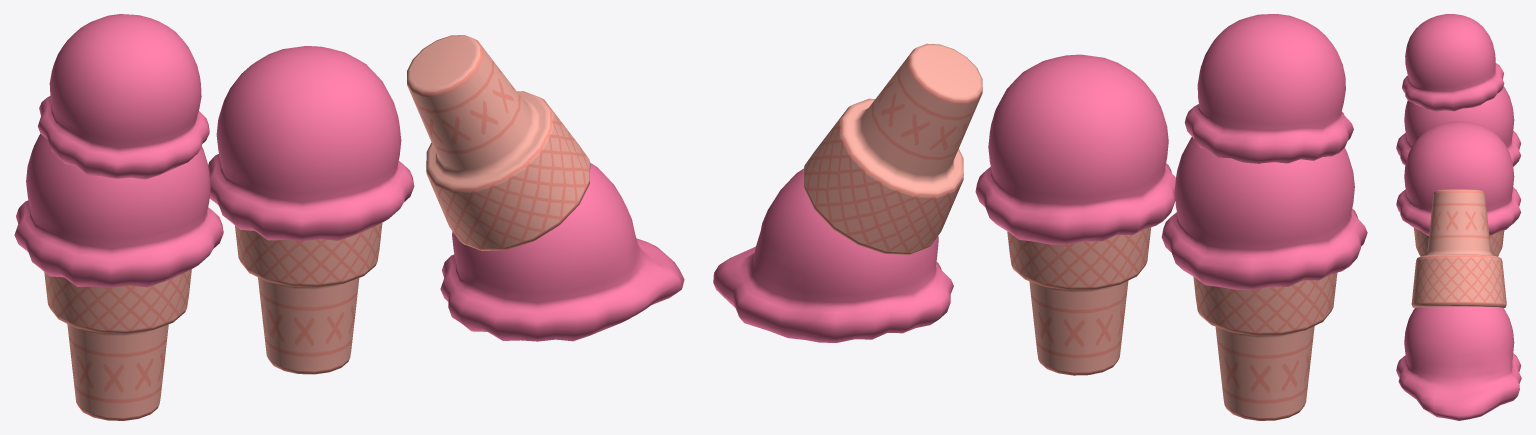
Rendered from Icecream.fbx.
3 views of the same model, side by side, from view 1: azimuth 30°, elevation 25°; view 2: azimuth 150°, elevation 25°; view 3: azimuth 270°, elevation 25° (orthographic). The views are drawn at different scales.
Visible parts, largest first — view 1: pCube7, pCylinder4, pCube6; view 2: pCube7, pCylinder4, pCube6; view 3: pCylinder4, pCube7, pCube6.
Boxes of the visible parts, box(x1,y1,x2,y2) form: pCube7: box(14, 14, 223, 420); pCylinder4: box(407, 35, 684, 341); pCube6: box(208, 46, 414, 374); pCube7: box(1161, 14, 1367, 420); pCylinder4: box(713, 43, 982, 342); pCube6: box(975, 54, 1175, 375); pCylinder4: box(1396, 189, 1521, 420); pCube7: box(1396, 14, 1521, 166); pCube6: box(1396, 121, 1521, 256).
Size of the model in its own units: 681 by 396 by 188.
